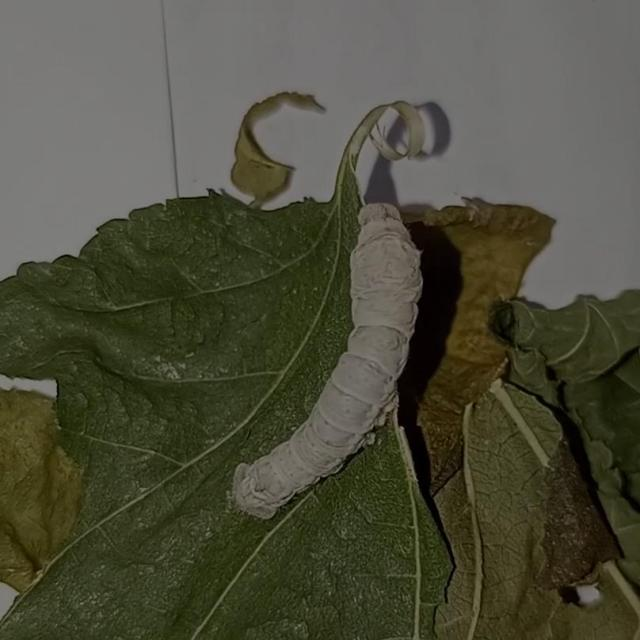Healthy: (218, 199, 434, 536)
